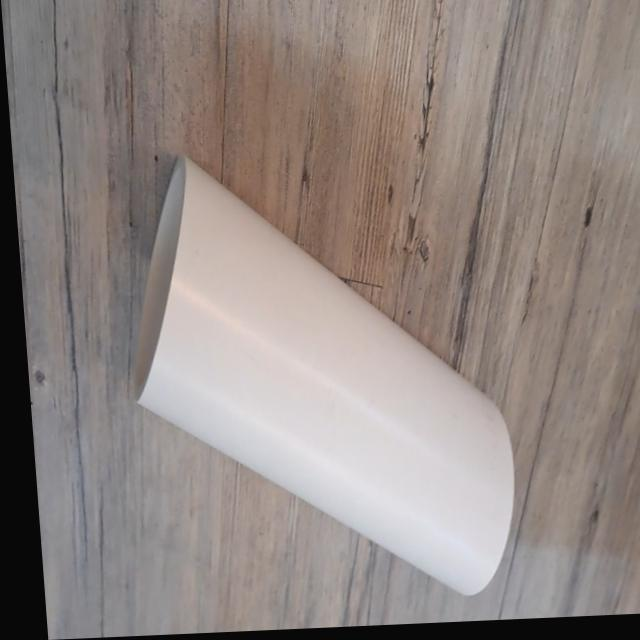CORAL: (110, 103, 540, 616)
